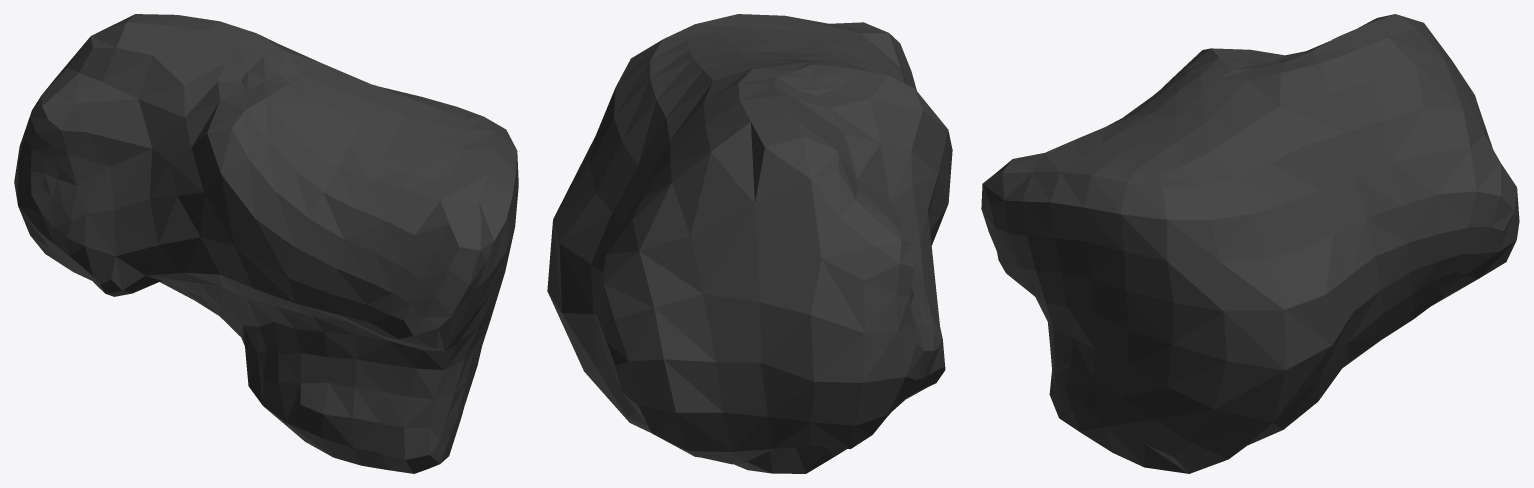
The model's file is Fourth_tarsal.glb.
3 renders of one model, left to right at view 1: azimuth 30°, elevation 25°; view 2: azimuth 150°, elevation 25°; view 3: azimuth 270°, elevation 25°, orthographic. The views are drawn at different scales.
Visible parts, largest first — view 1: Fourth_tarsal; view 2: Fourth_tarsal; view 3: Fourth_tarsal.
Part boxes in pixels (x1,y1,x2,y2): Fourth_tarsal: (14, 14, 518, 473); Fourth_tarsal: (547, 14, 952, 473); Fourth_tarsal: (981, 14, 1519, 473).
Bounding box in the file's own units: 75.93 × 75.38 × 98.58.
Materials: 1 (1 with a texture image).
